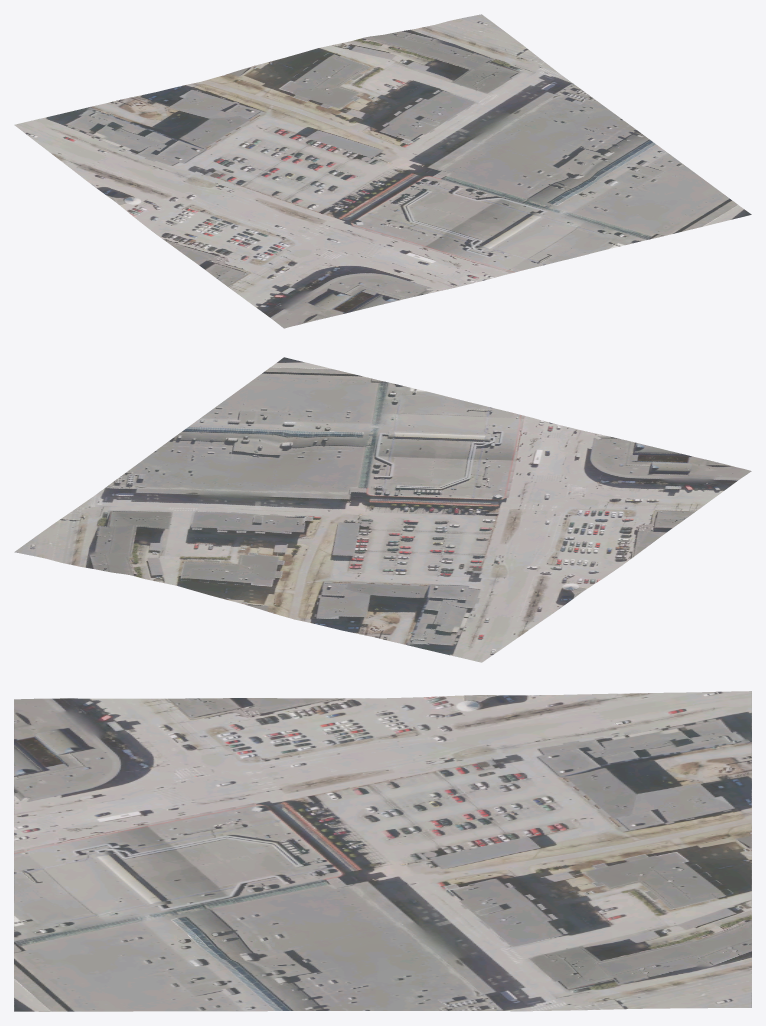
File: CM_Terrain_24491892_6815698.fbx
3 views of the same model, one above another, from view 1: azimuth 30°, elevation 25°; view 2: azimuth 150°, elevation 25°; view 3: azimuth 270°, elevation 25° (orthographic). The views are drawn at different scales.
Parts seen in each view (by area): view 1: CM_Terrain_24491892_6815698_LOD0; view 2: CM_Terrain_24491892_6815698_LOD0; view 3: CM_Terrain_24491892_6815698_LOD0.
Boxes of the visible parts, <box> form: CM_Terrain_24491892_6815698_LOD0: <box>14,14,751,328</box>; CM_Terrain_24491892_6815698_LOD0: <box>14,357,751,662</box>; CM_Terrain_24491892_6815698_LOD0: <box>14,691,751,1011</box>.
Size of what is drawn, in the model's own units: 205 by 5.58 by 205.
